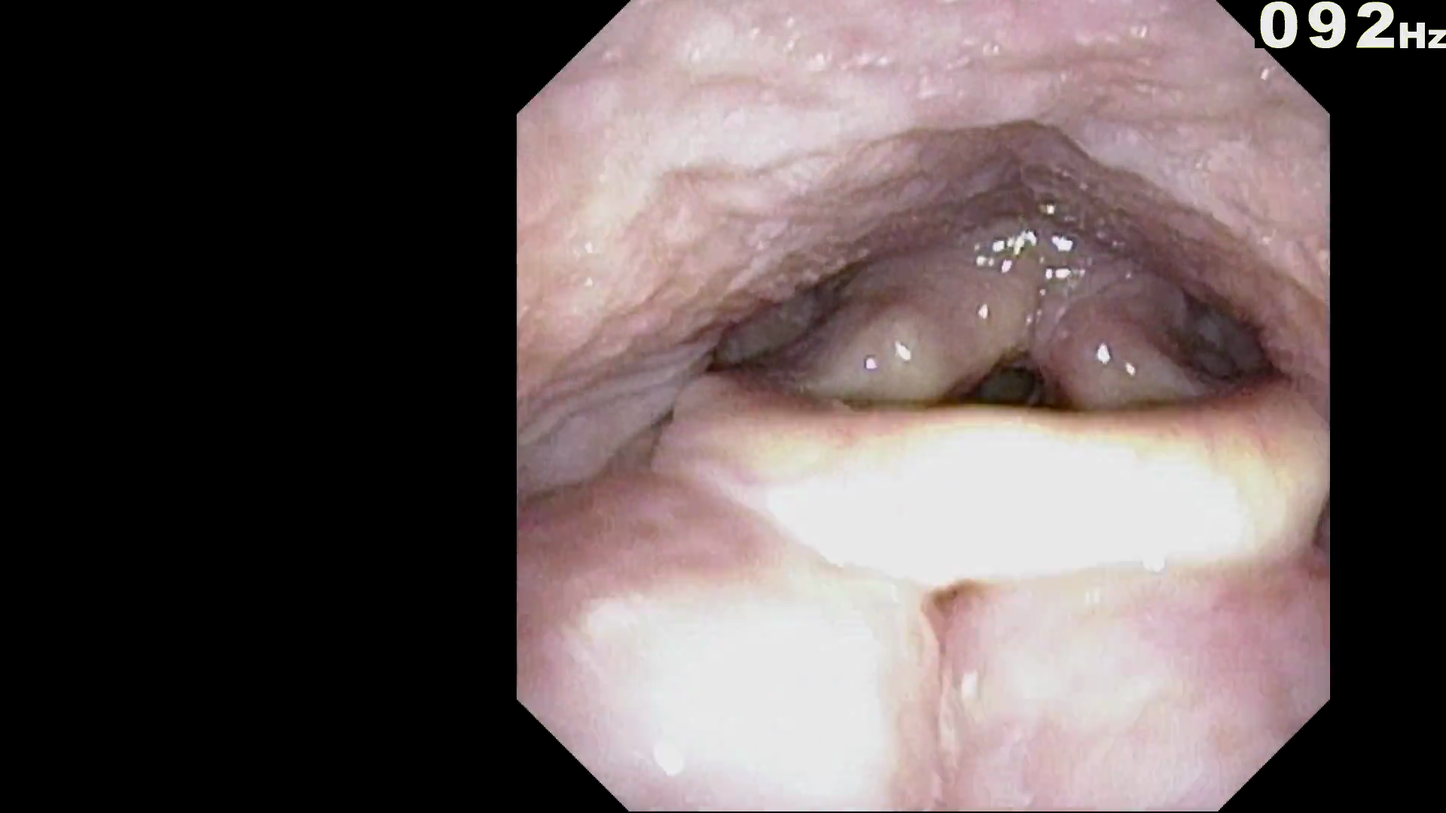epiglottis: (664, 323, 1316, 631)
trachea: (938, 275, 1089, 440)
